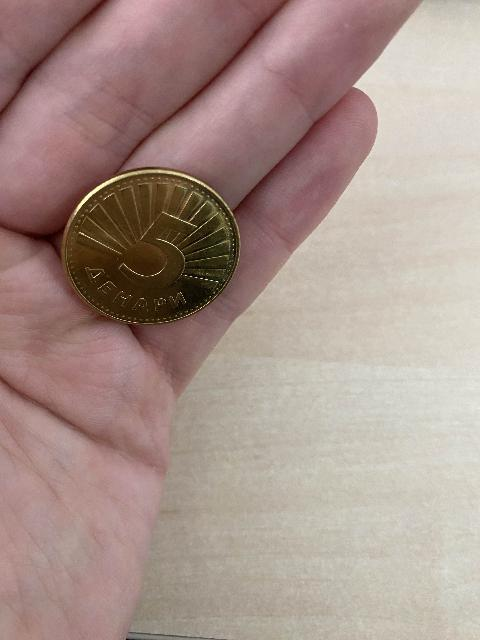coin: (62, 169, 239, 324)
